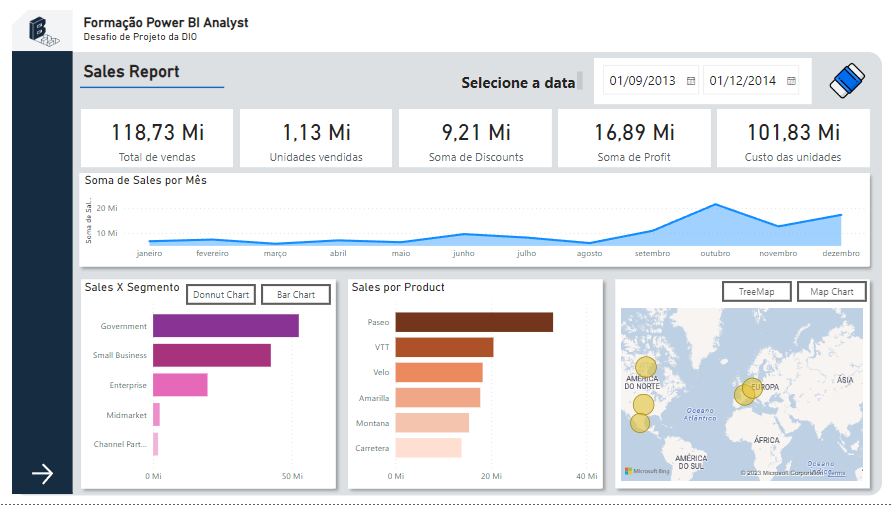

What the dashboard file says about the page in this screenshot:
{"tool":"powerbi","page":{"name":"Página 1","canvas":[1280,720],"ordinal":0},"visuals":[{"type":"group","id":"g1","title":"Background","box":[22.9,14.2,1243.6,693.5],"z":0},{"type":"shape","box":[23.1,14.2,86.9,691.6],"z":0,"group":"g1"},{"type":"slicer","fields":{"Values":["financials.Date"]},"box":[854.2,82.5,311.4,66.5],"z":0,"group":"g3"},{"type":"shape","box":[120.4,96.8,206.2,55.4],"z":0,"group":"g2"},{"type":"shape","box":[121.8,155.3,217.5,83.2],"z":0,"group":"g4"},{"type":"shape","box":[110.7,238.5,1145.9,151.2],"z":0,"group":"g5"},{"type":"shape","box":[112.3,389.8,381.5,316.5],"z":0,"group":"g6"},{"type":"shape","box":[22.9,14.5,88,59.1],"z":1000,"group":"g1"},{"type":"group","id":"g2","title":"Titulo","box":[120.4,83,206.2,69.2],"z":1000},{"type":"textbox","box":[120.4,83,157.8,51.2],"z":1000,"group":"g2"},{"type":"textbox","box":[659.7,97.3,183.4,36.9],"z":1000,"group":"g3"},{"type":"shape","box":[349.1,155.3,217.5,83.2],"z":1000,"group":"g4"},{"type":"areaChart","fields":{"Category":["financials.Date.Variation.Hierarquia de datas.Mês"],"Y":["Sum(financials. Sales)"]},"box":[121.5,246.4,1127,133.1],"z":1000,"group":"g5"},{"type":"shape","box":[493.8,389.8,381.5,316.5],"z":1000,"group":"g6"},{"type":"image","box":[1184.5,83.1,63.7,63.7],"z":1500,"group":"g3"},{"type":"shape","box":[23.4,73.9,1243.1,633.8],"z":2000,"group":"g1"},{"type":"group","id":"g3","title":"Delimitador","box":[659.7,82.5,588.5,66.5],"z":2000},{"type":"shape","box":[576.5,155.3,217.5,83.2],"z":2000,"group":"g4"},{"type":"shape","box":[875.2,389.8,381.5,316.5],"z":2000,"group":"g6"},{"type":"image","box":[42.5,15.8,53.2,57.6],"z":3000,"group":"g1"},{"type":"group","id":"g4","title":"Cartões superiores","box":[121.5,155.3,1127.1,83.2],"z":3000},{"type":"shape","box":[803.8,155.3,217.5,83.2],"z":3000,"group":"g4"},{"type":"clusteredBarChart","fields":{"Y":["Sum(financials. Sales)"],"Category":["financials.Product"]},"box":[502.2,400,360.6,297.8],"z":3000,"group":"g6"},{"type":"textbox","box":[120.4,15.2,384.7,58.1],"z":4000,"group":"g1"},{"type":"shape","box":[1031.2,155.3,217.5,83.2],"z":4000,"group":"g4"},{"type":"group","id":"g5","title":"Cartão magnitude","box":[110.7,238.5,1145.9,151.2],"z":4000},{"type":"clusteredBarChart","title":"Sales X Segmento","fields":{"Y":["Sum(financials. Sales)"],"Category":["financials.Segment"]},"box":[121.5,399.4,360.9,297.8],"z":4000,"group":"g6"},{"type":"card","fields":{"Values":["Sum(financials.Units Sold)"]},"box":[349.2,155.3,217.2,82.9],"z":5000,"group":"g4"},{"type":"group","id":"g6","title":"Cartões inferiores","box":[112.3,389.8,1144.4,316.5],"z":5000},{"type":"map","title":"Map","fields":{"Category":["financials.Country"],"Size":["Sum(financials. Sales)"]},"box":[888.2,435.2,354.8,257.2],"z":5000,"group":"g6"},{"type":"actionButton","title":"Botao - Next","box":[46.2,657.1,50.7,40.2],"z":5500},{"type":"card","fields":{"Values":["Sum(financials.COGS)"]},"box":[1030.1,155.3,217.2,82.9],"z":6000,"group":"g4"},{"type":"card","fields":{"Values":["Sum(financials.Profit)"]},"box":[803.5,155.3,217.2,82.9],"z":7000,"group":"g4"},{"type":"actionButton","title":"Botao - Tree","box":[1036.7,401.9,99.8,29.8],"z":7250,"group":"g6"},{"type":"actionButton","title":"Botao - Map","box":[1144,401.9,99.8,29.8],"z":7375,"group":"g6"},{"type":"actionButton","title":"Botao - Donnut","box":[271.2,405.3,99.8,29.8],"z":7437,"group":"g6"},{"type":"actionButton","title":"Botao - Bar","box":[378.5,405.3,99.8,29.8],"z":7500,"group":"g6"},{"type":"card","fields":{"Values":["Sum(financials.Discounts)"]},"box":[577,155.3,217.2,82.9],"z":8000,"group":"g4"},{"type":"card","fields":{"Values":["Sum(financials. Sales)"]},"box":[121.5,155.3,217.2,82.9],"z":9000,"group":"g4"}]}

Visuals, with their boxes on the page's 1280x720 design canvas (x1, y1, x2, y2). These are canvas units, not pixel positions in the 892x505 screenshot, which may show the page scaled, cropped or inside an application window:
"Background" group: detection(23, 14, 1266, 708)
shape: detection(23, 14, 110, 706)
slicer - financials.Date: detection(854, 82, 1166, 149)
shape: detection(120, 97, 327, 152)
shape: detection(122, 155, 339, 238)
shape: detection(111, 238, 1257, 390)
shape: detection(112, 390, 494, 706)
shape: detection(23, 14, 111, 74)
"Titulo" group: detection(120, 83, 327, 152)
textbox: detection(120, 83, 278, 134)
textbox: detection(660, 97, 843, 134)
shape: detection(349, 155, 567, 238)
areaChart - financials.Date.Variation.Hierarquia de datas.Mês x Sum(financials. Sales): detection(122, 246, 1248, 380)
shape: detection(494, 390, 875, 706)
image: detection(1184, 83, 1248, 147)
shape: detection(23, 74, 1266, 708)
"Delimitador" group: detection(660, 82, 1248, 149)
shape: detection(576, 155, 794, 238)
shape: detection(875, 390, 1257, 706)
image: detection(42, 16, 96, 73)
"Cartões superiores" group: detection(122, 155, 1249, 238)
shape: detection(804, 155, 1021, 238)
clusteredBarChart - Sum(financials. Sales) x financials.Product: detection(502, 400, 863, 698)
textbox: detection(120, 15, 505, 73)
shape: detection(1031, 155, 1249, 238)
"Cartão magnitude" group: detection(111, 238, 1257, 390)
"Sales X Segmento" clusteredBarChart: detection(122, 399, 482, 697)
card - Sum(financials.Units Sold): detection(349, 155, 566, 238)
"Cartões inferiores" group: detection(112, 390, 1257, 706)
"Map" map: detection(888, 435, 1243, 692)
"Botao - Next" actionButton: detection(46, 657, 97, 697)
card - Sum(financials.COGS): detection(1030, 155, 1247, 238)
card - Sum(financials.Profit): detection(804, 155, 1021, 238)
"Botao - Tree" actionButton: detection(1037, 402, 1136, 432)
"Botao - Map" actionButton: detection(1144, 402, 1244, 432)
"Botao - Donnut" actionButton: detection(271, 405, 371, 435)
"Botao - Bar" actionButton: detection(378, 405, 478, 435)
card - Sum(financials.Discounts): detection(577, 155, 794, 238)
card - Sum(financials. Sales): detection(122, 155, 339, 238)
